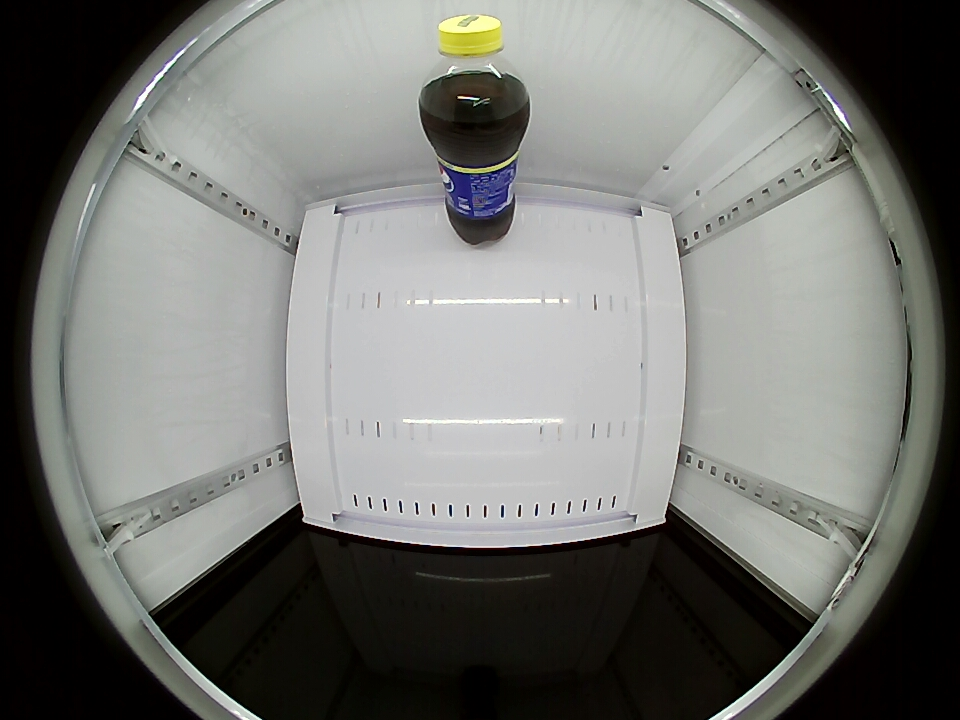baishikele: (420, 14, 528, 128)
